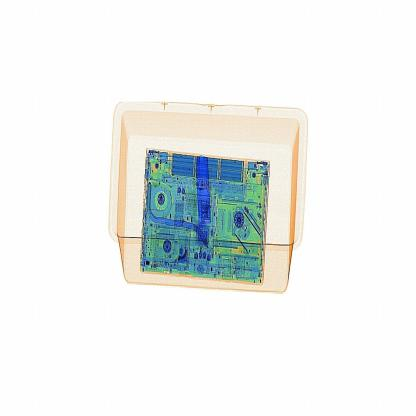pliers: (180, 152, 220, 256)
